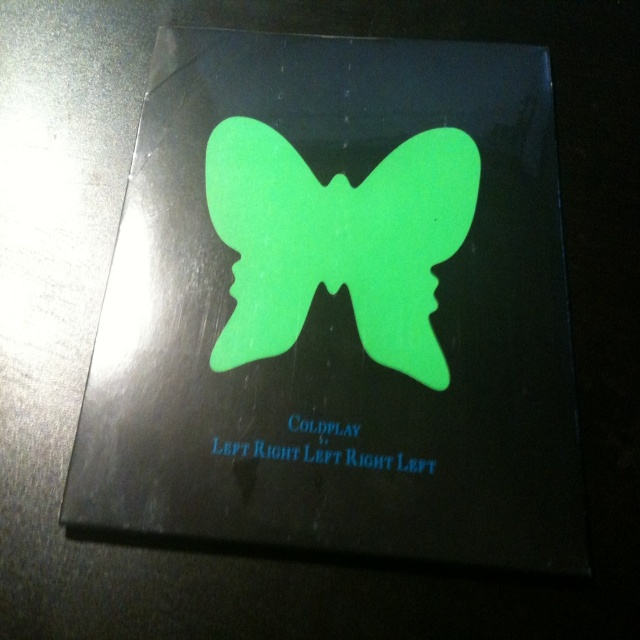Butterfly: (208, 95, 493, 390)
